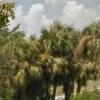Tree: (17, 14, 100, 97)
